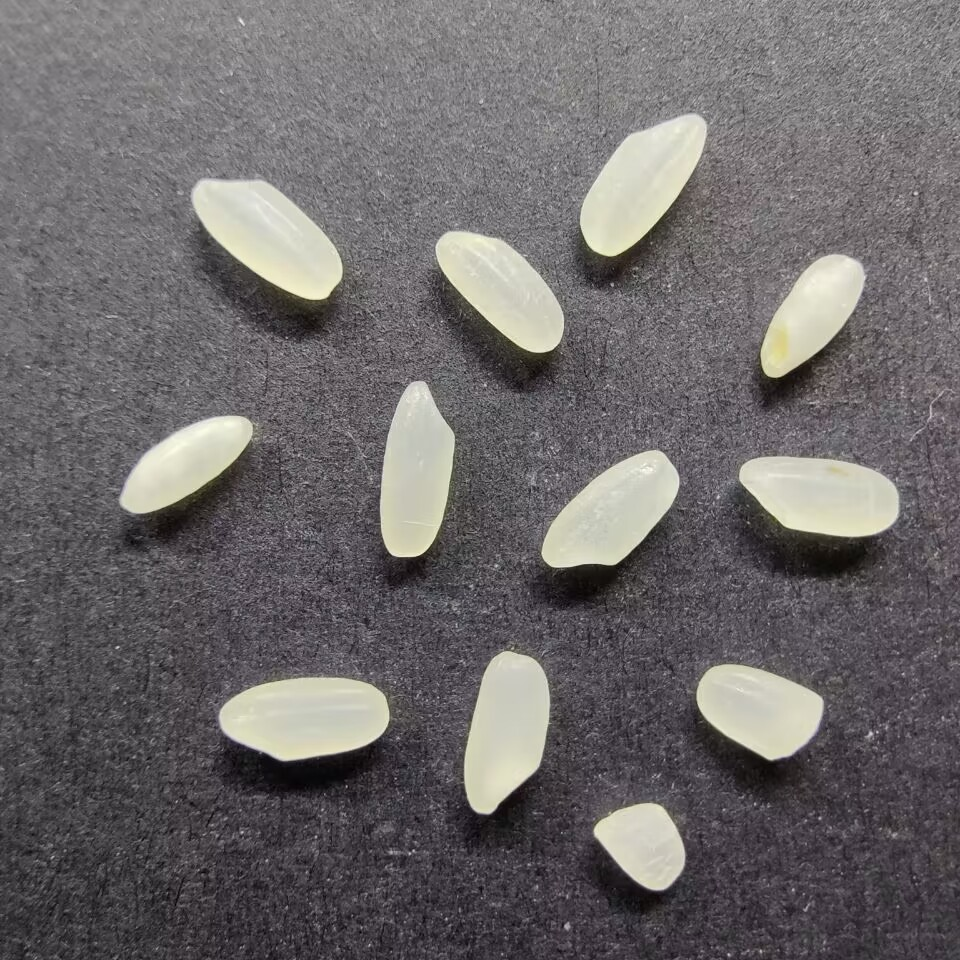broken: (692, 662, 824, 762), (592, 801, 686, 893)
rice: (189, 176, 345, 302), (577, 112, 709, 258), (539, 448, 681, 570), (433, 227, 566, 355), (216, 676, 392, 761), (461, 650, 551, 816), (378, 377, 457, 559), (737, 453, 901, 539), (117, 412, 253, 515), (759, 253, 869, 378)
